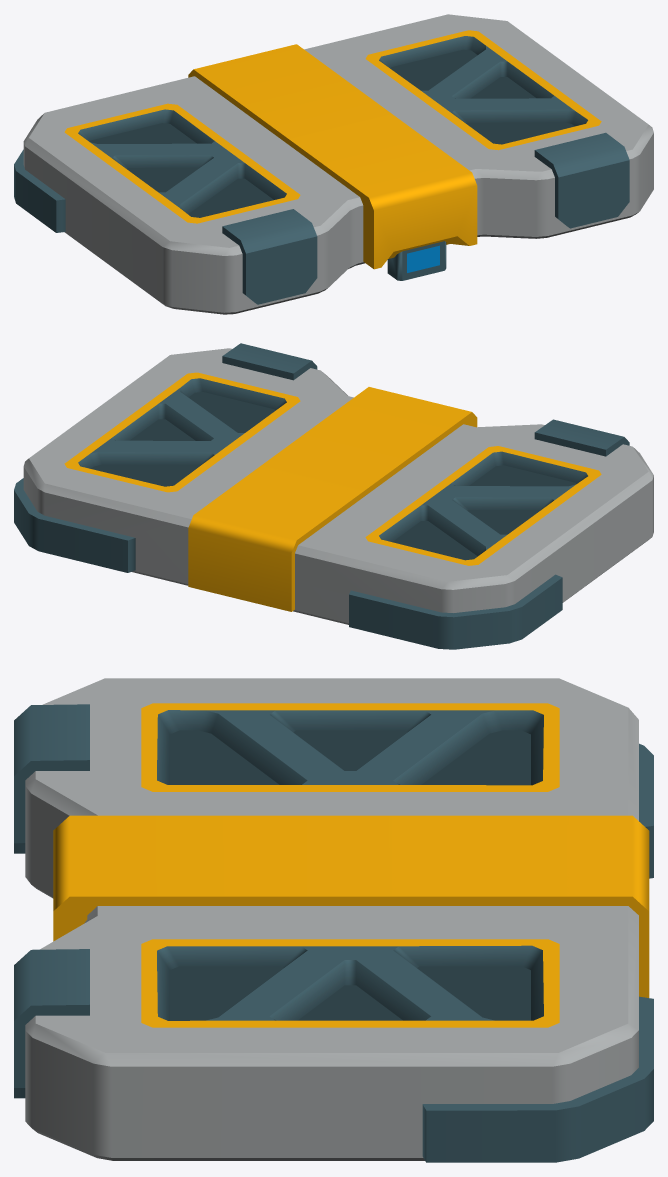
File: Crate_004_001.fbx
The picture shows the model from 3 angles, top to bottom: view 1: azimuth 30°, elevation 25°; view 2: azimuth 150°, elevation 25°; view 3: azimuth 270°, elevation 25°; orthographic projection. The views are drawn at different scales.
Visible parts, largest first — view 1: Crate_004_001; view 2: Crate_004_001; view 3: Crate_004_001.
Boxes of the visible parts, bbox=[...] form: Crate_004_001: bbox=[14, 14, 653, 314]; Crate_004_001: bbox=[14, 343, 653, 649]; Crate_004_001: bbox=[14, 678, 653, 1162].
Size of the model in its own units: 74.13 by 50.55 by 12.53.
